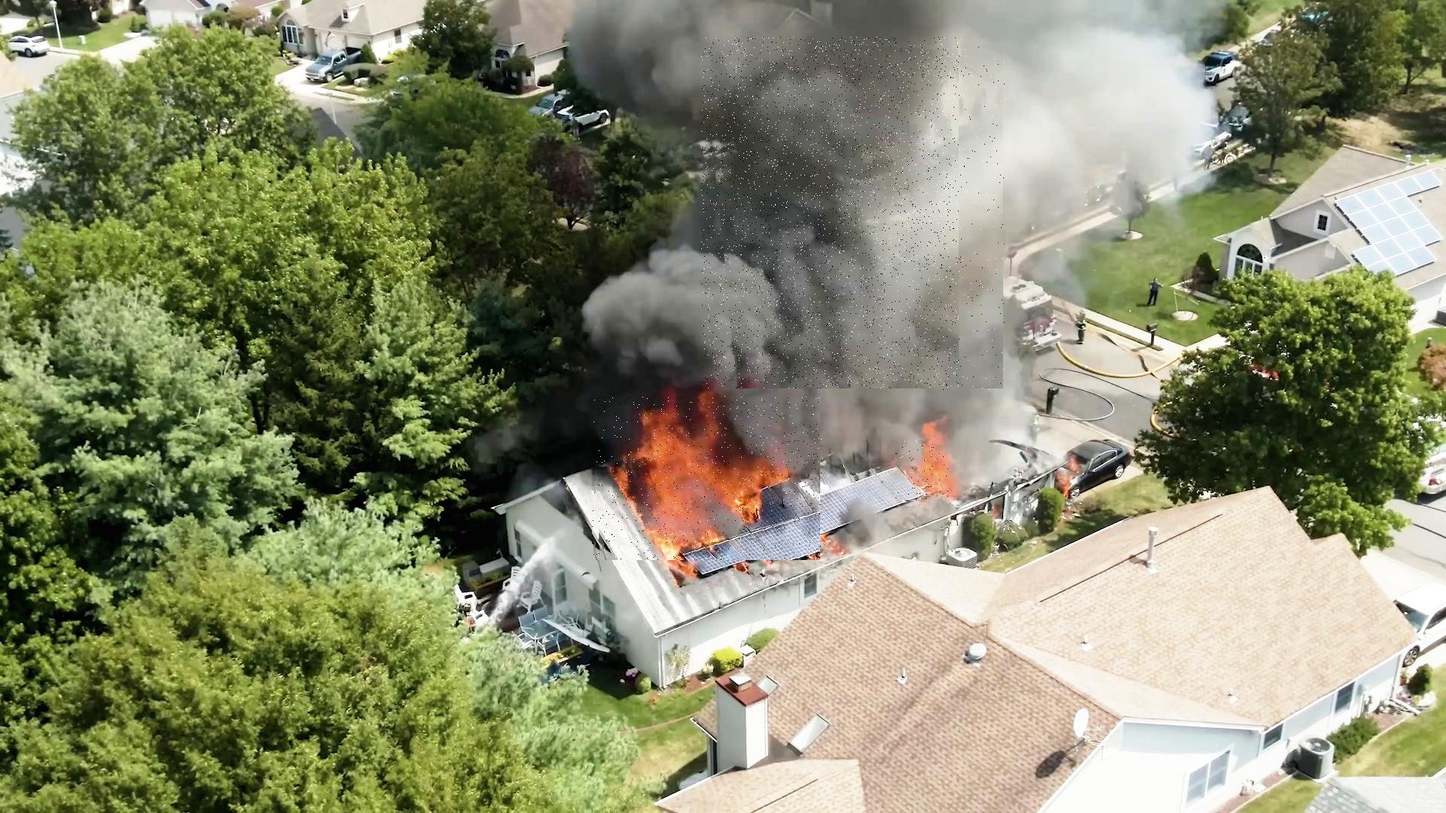fire: (593, 396, 822, 560), (895, 441, 951, 502)
smoke: (701, 37, 959, 389), (881, 43, 1005, 391)
